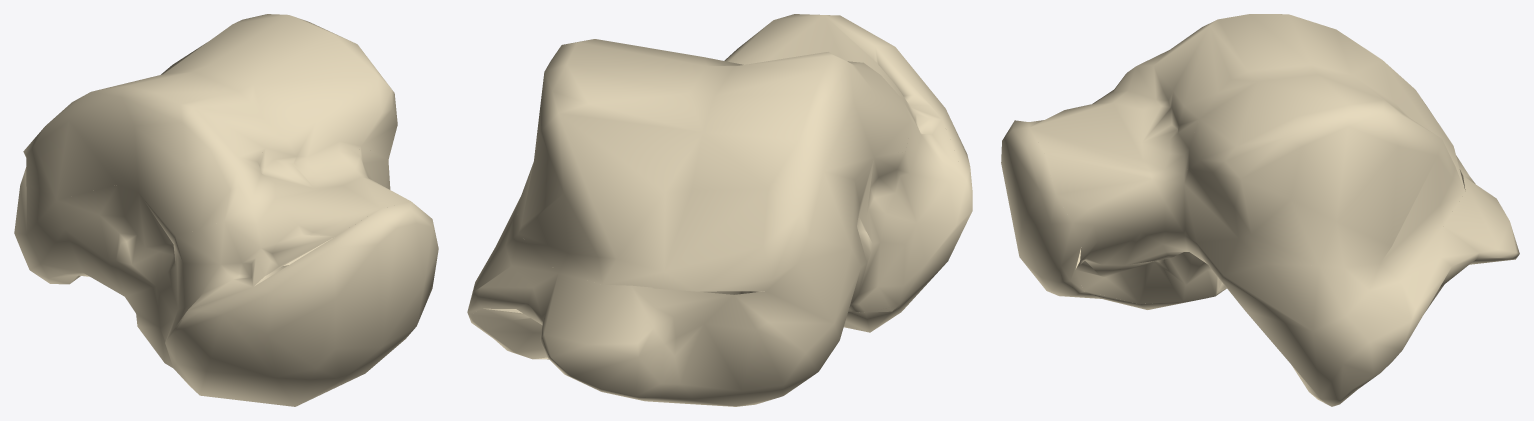
Rendered from esqueleto-talus-l.glb.
3 views of the same model, side by side, from view 1: azimuth 30°, elevation 25°; view 2: azimuth 150°, elevation 25°; view 3: azimuth 270°, elevation 25° (orthographic). The views are drawn at different scales.
Visible parts, largest first — view 1: Talus.l; view 2: Talus.l; view 3: Talus.l.
Part boxes in pixels (left/top/right/bottom): Talus.l: left=14, top=14, right=438, bottom=406; Talus.l: left=467, top=14, right=972, bottom=406; Talus.l: left=1001, top=14, right=1519, bottom=406.
Bounding box in the file's own units: 0.0421 × 0.0356 × 0.0591.
